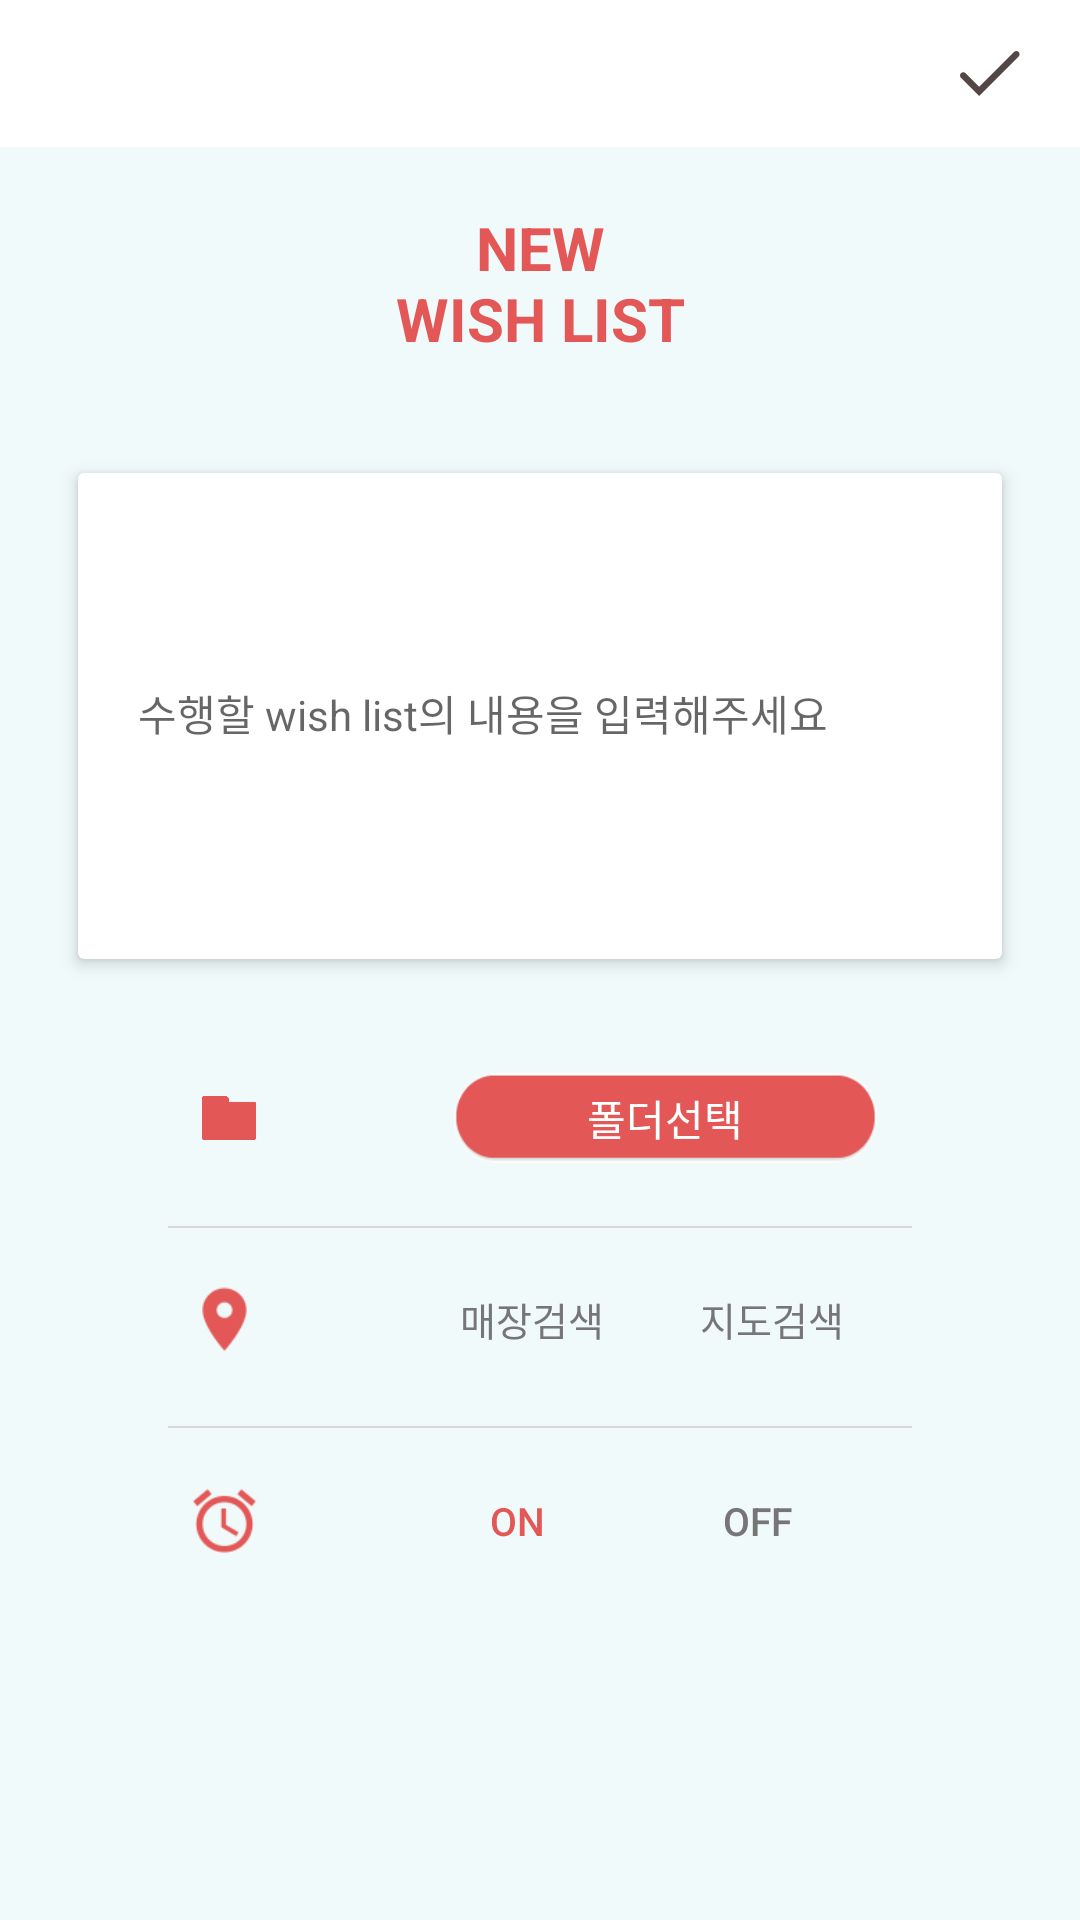

Where to tap for icons on this 1080w x 1920h app screen, as (x=x, y=y):
alarm: (x=224, y=1521)
check: (x=990, y=73)
location: (x=224, y=1319)
